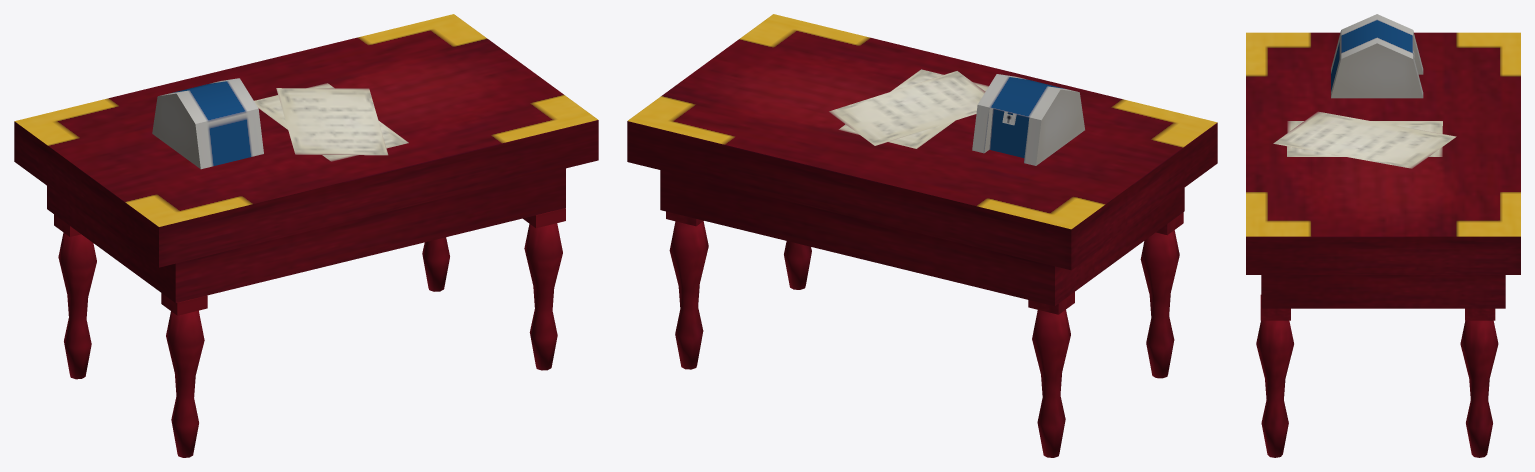
Rendered from counter2.FBX.
3 views of the same model, side by side, from view 1: azimuth 30°, elevation 25°; view 2: azimuth 150°, elevation 25°; view 3: azimuth 270°, elevation 25° (orthographic). The views are drawn at different scales.
Visible parts, largest first — view 1: Box002; view 2: Box002; view 3: Box002.
Part boxes in pixels (left/top/right/bottom): Box002: left=14, top=14, right=598, bottom=457; Box002: left=627, top=14, right=1217, bottom=457; Box002: left=1246, top=14, right=1520, bottom=457.
Bounding box in the file's own units: 259 × 175 × 147.
